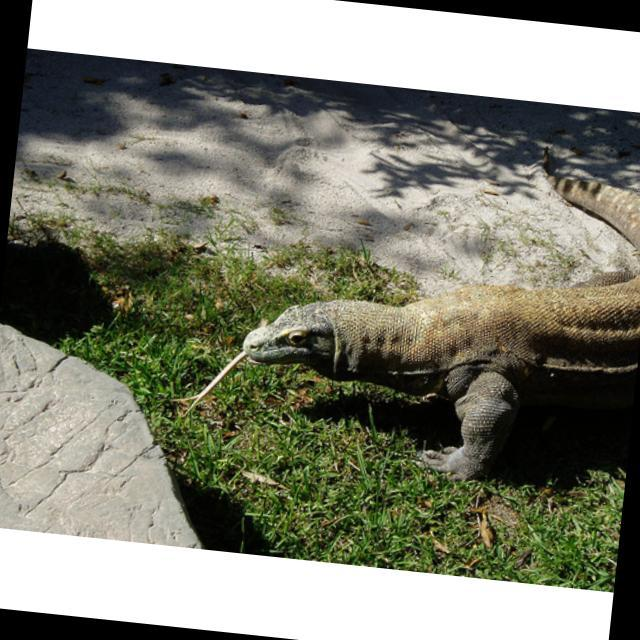KomodoDragon: (159, 129, 640, 502)
